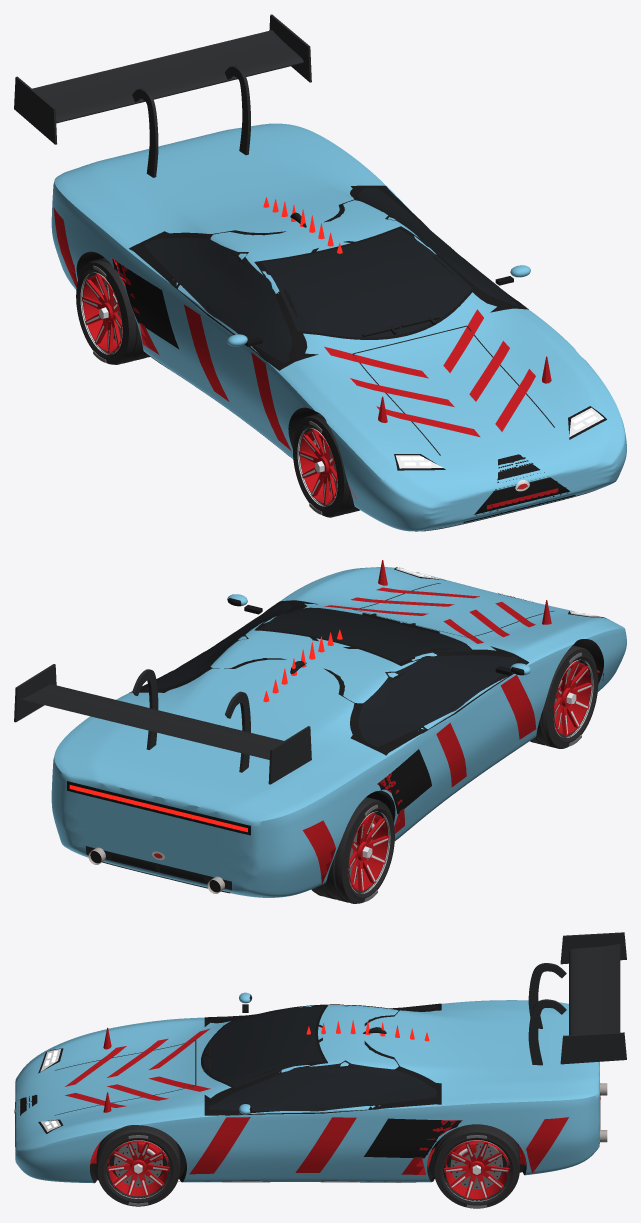
The model's file is tora.glb.
3 renders of one model, top to bottom at view 1: azimuth 30°, elevation 25°; view 2: azimuth 150°, elevation 25°; view 3: azimuth 270°, elevation 25°, orthographic. The views are drawn at different scales.
Visible parts, largest first — view 1: Body, Wheel_RR, Wheel_FR; view 2: Body, Wheel_RR, Wheel_FR; view 3: Body, Wheel_RL, Wheel_FL.
Part boxes in pixels (x1,y1,x2,y2): Body: (14, 14, 626, 531); Wheel_RR: (76, 258, 150, 364); Wheel_FR: (293, 413, 359, 517); Body: (14, 560, 626, 897); Wheel_RR: (311, 797, 394, 903); Wheel_FR: (530, 645, 598, 748); Body: (14, 932, 626, 1183); Wheel_RL: (433, 1124, 519, 1208); Wheel_FL: (96, 1125, 180, 1206).
Bounding box in the file's own units: 2.28 × 1.57 × 4.98.
